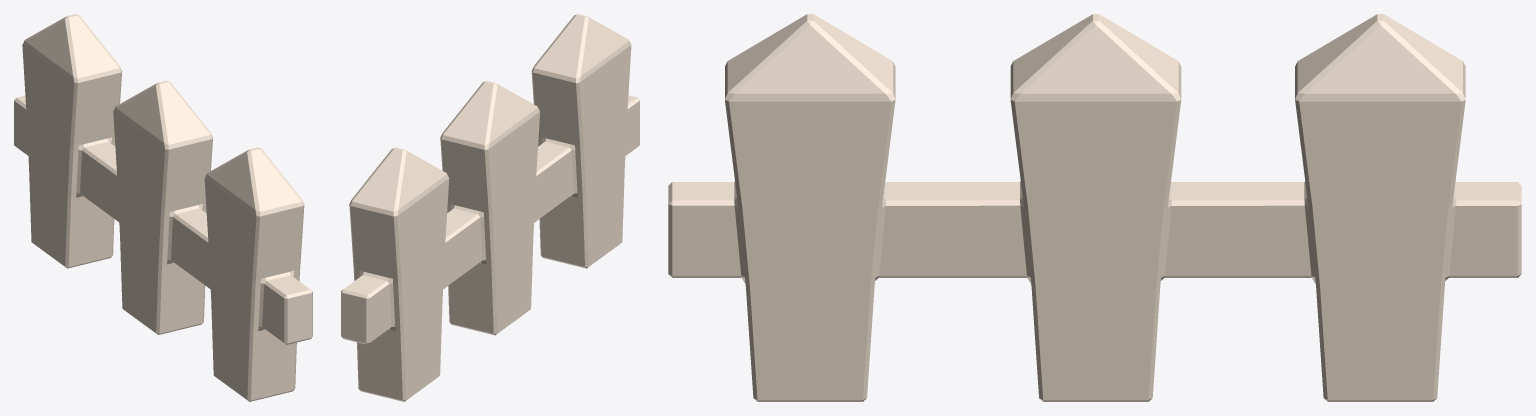
Rendered from fence.fbx.
3 views of the same model, side by side, from view 1: azimuth 30°, elevation 25°; view 2: azimuth 150°, elevation 25°; view 3: azimuth 270°, elevation 25° (orthographic). The views are drawn at different scales.
Visible parts, largest first — view 1: Cube; view 2: Cube; view 3: Cube.
Boxes of the visible parts, x1=… form: Cube: x1=14, y1=14, x2=312, y2=401; Cube: x1=341, y1=14, x2=639, y2=401; Cube: x1=668, y1=14, x2=1521, y2=401.
Size of the model in its own units: 122 by 571 by 1199.
